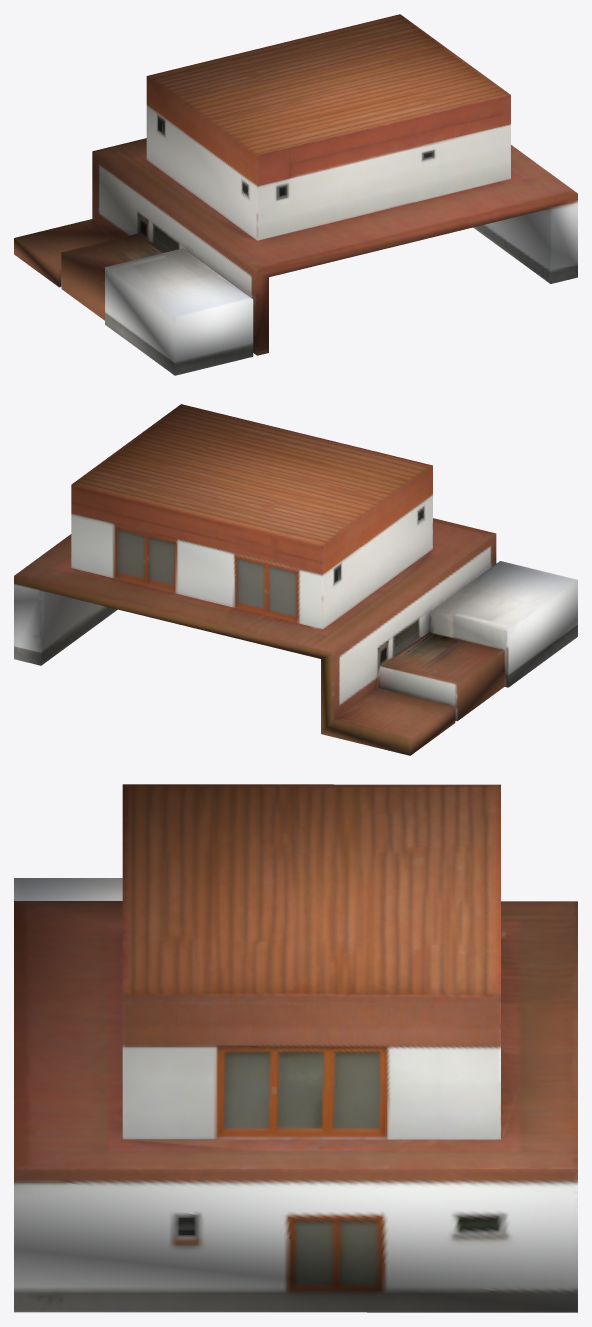
The model's file is home_003.obj.
3 views of the same model, one above another, from view 1: azimuth 30°, elevation 25°; view 2: azimuth 150°, elevation 25°; view 3: azimuth 270°, elevation 25° (orthographic). The views are drawn at different scales.
Parts seen in each view (by area): view 1: model; view 2: model; view 3: model.
Boxes of the visible parts, x1=… form: model: x1=14, y1=14, x2=577, y2=375; model: x1=14, y1=404, x2=577, y2=755; model: x1=14, y1=784, x2=577, y2=1312.
Size of the model in its own units: 2 by 0.7971 by 1.42.
